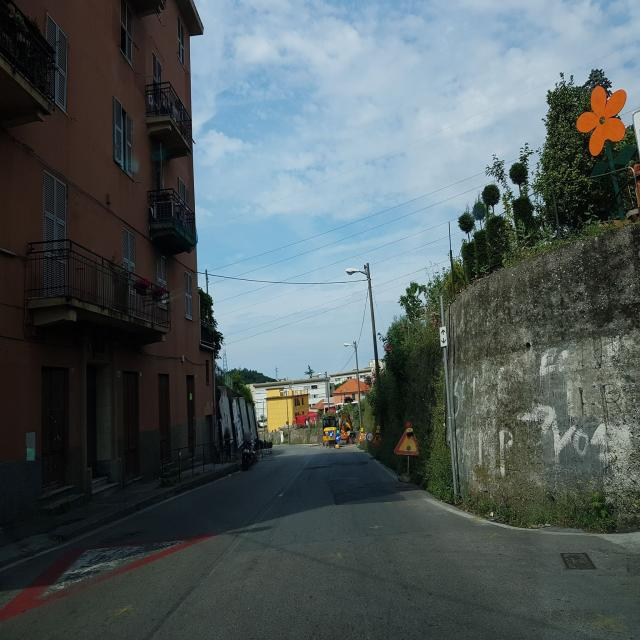bike: (241, 438, 257, 470)
car: (322, 426, 338, 446)
